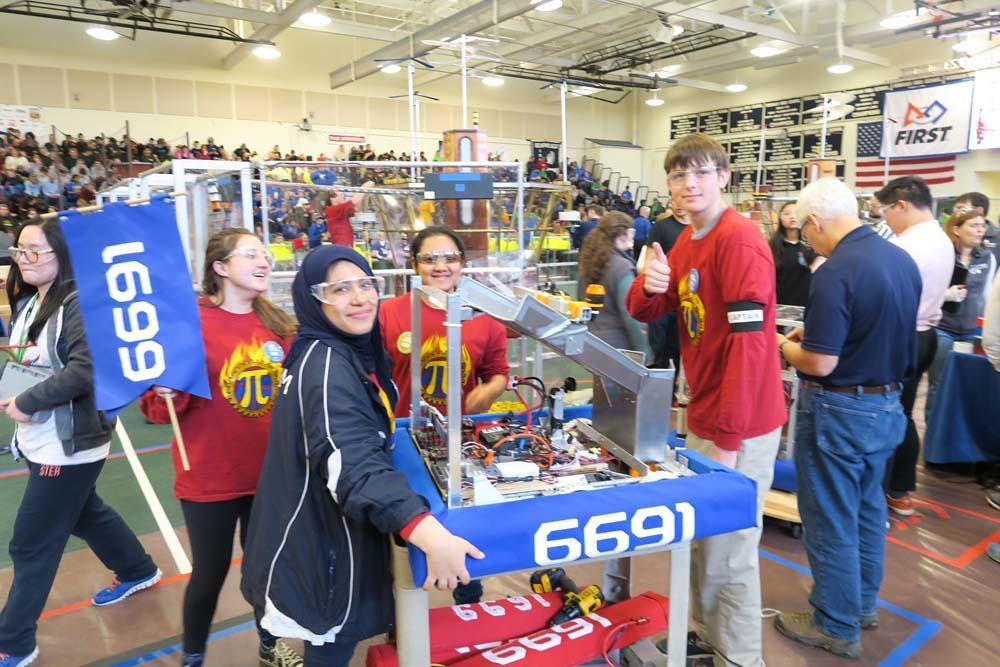robot: (365, 276, 757, 589)
